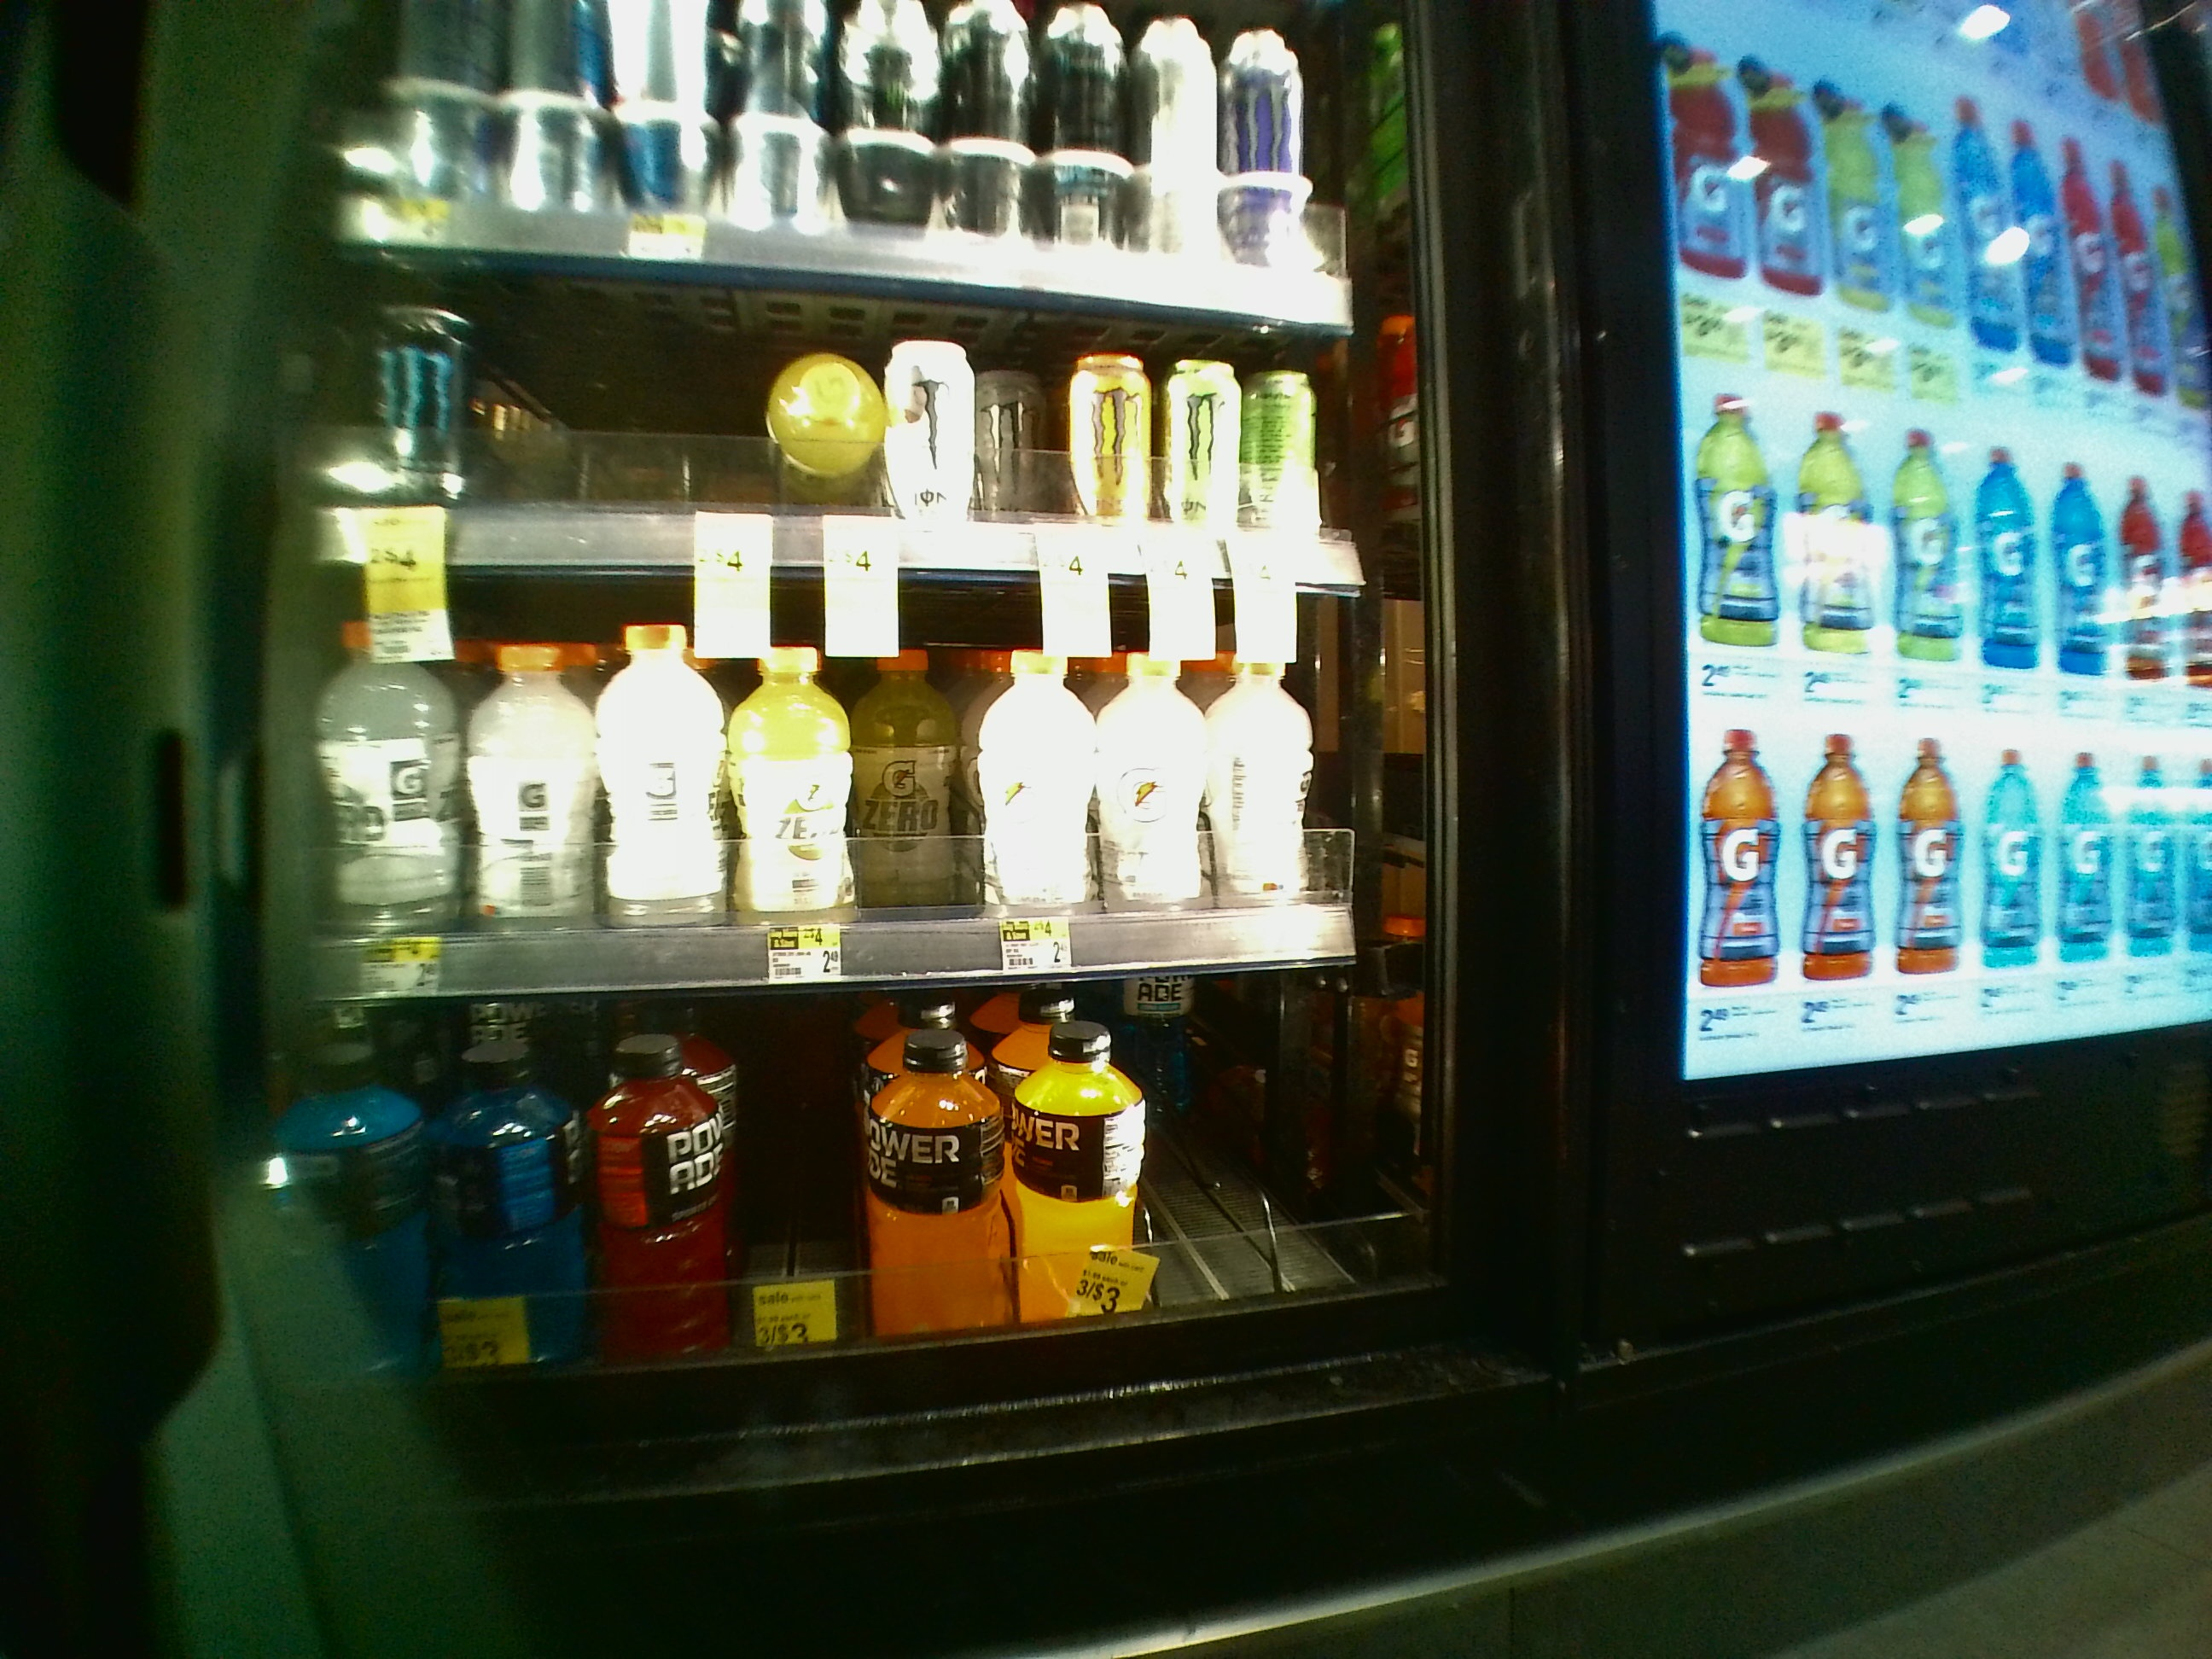shelf: (296, 559, 1442, 986)
